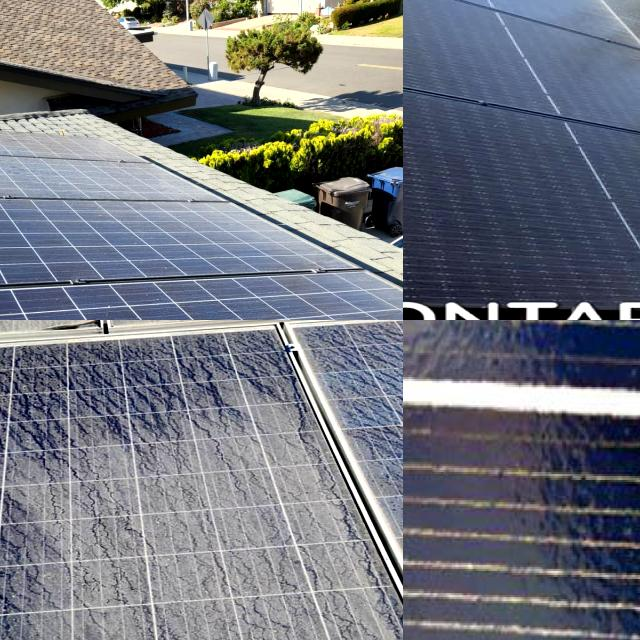dust: (0, 350, 325, 640), (106, 320, 355, 358), (332, 339, 403, 456), (0, 320, 101, 361)
